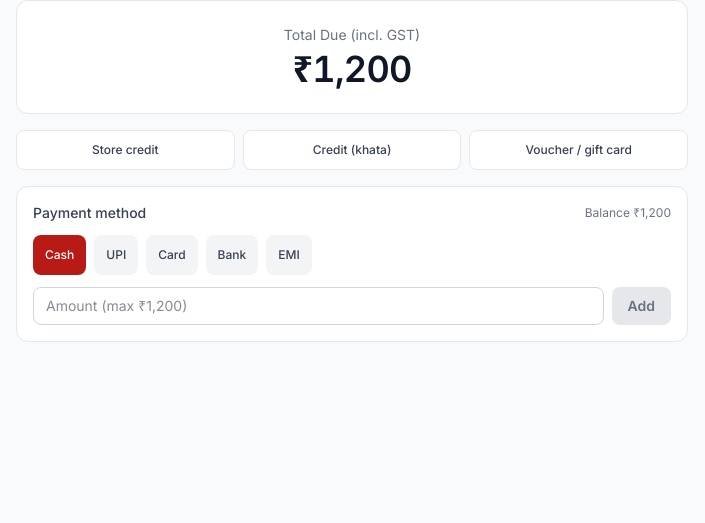
Test: POS store-credit tender (cart mode) › KEY: applies a STORE_CREDIT leg capped at the BILL when credit exceeds it
The width and height of the screenshot is (705, 523).
Click the button "Store credit". click: click(125, 150)
box: [16,130,235,170]
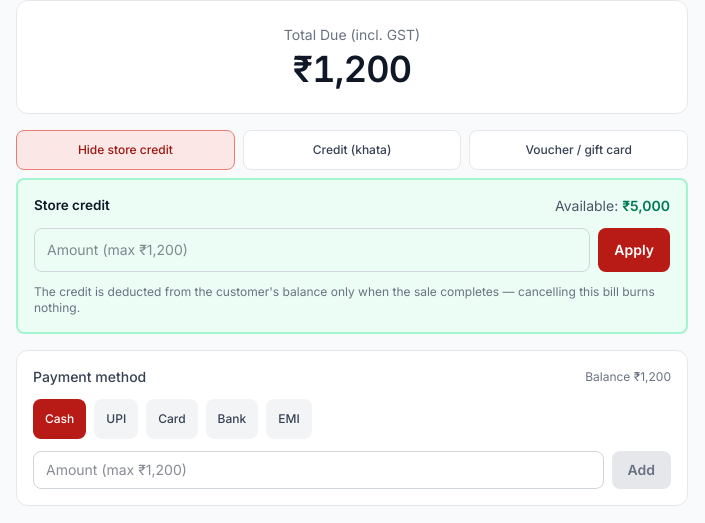
Result: the text "₹5,000" is shown at [622,197,670,214]
Click the button "Apply". click: click(634, 250)
box: [598,228,670,272]
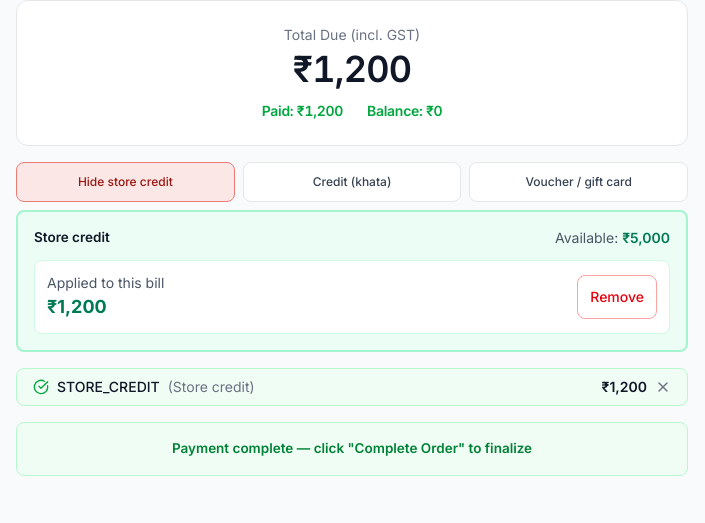
Result: the text "STORE_CREDIT" is shown at [57,377,160,397]
